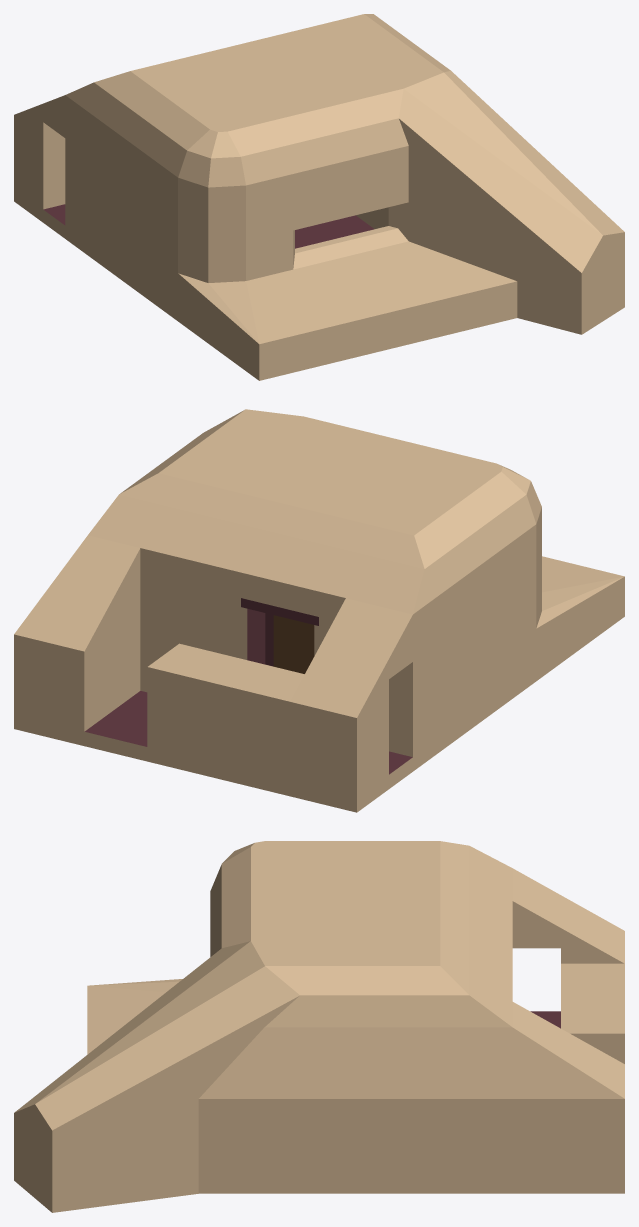
Rendered from ww2-bunker-medium.glb.
3 views of the same model, one above another, from view 1: azimuth 30°, elevation 25°; view 2: azimuth 150°, elevation 25°; view 3: azimuth 270°, elevation 25° (orthographic). The views are drawn at different scales.
Visible parts, largest first — view 1: bunker-medium; view 2: bunker-medium; view 3: bunker-medium.
Part boxes in pixels (x1=…): bunker-medium: x1=14, y1=14, x2=624, y2=380; bunker-medium: x1=14, y1=409, x2=624, y2=812; bunker-medium: x1=14, y1=841, x2=624, y2=1212.
Bounding box in the file's own units: 8.13 × 4.09 × 11.23.
